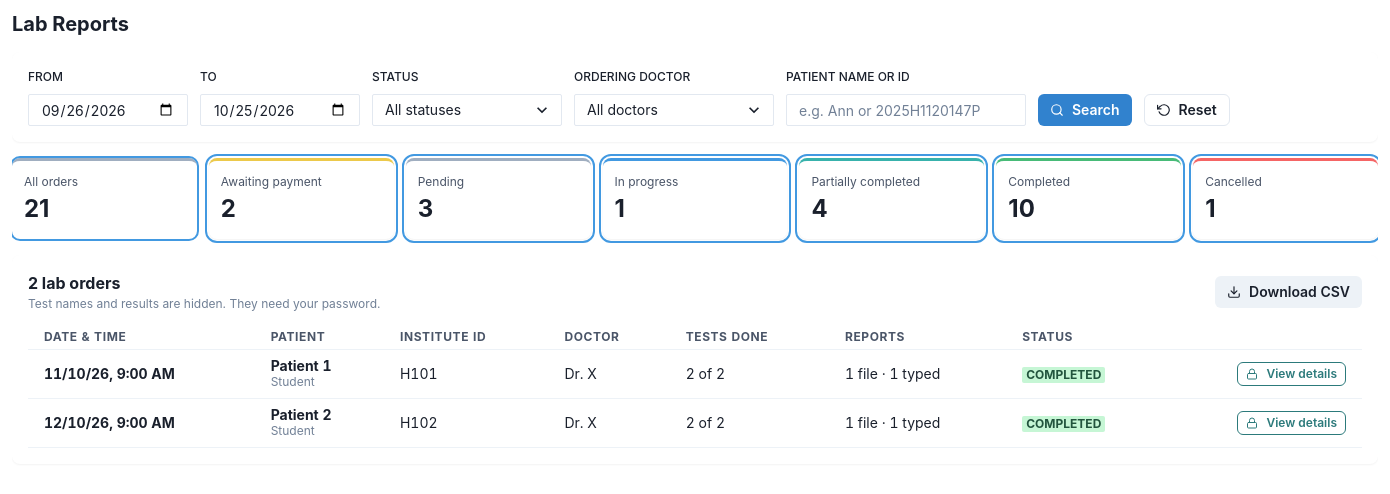
Test: Admin Reports - lab order statuses › refuses {"from":"","to":"2026-10-01"} without asking the server
Expected: the text "lab orders?" is shown, [28,273,120,293]
Clear the date field named "From date" at (108,110), box [28,94,188,126]
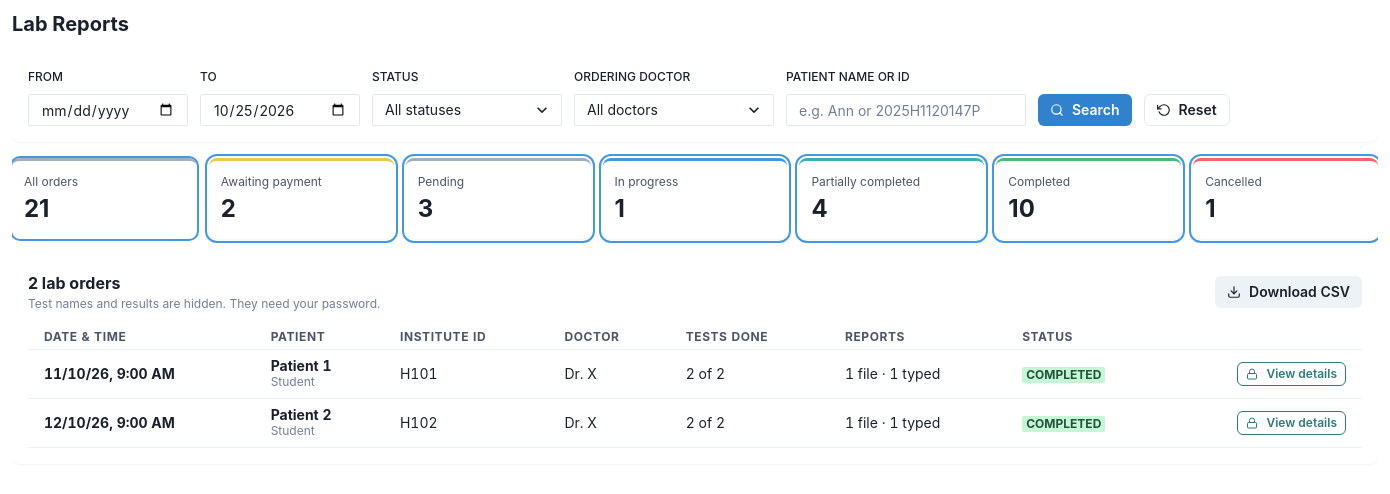
Type "2026-10-01" into the date field named "To date" at (280,110), box [200,94,360,126]
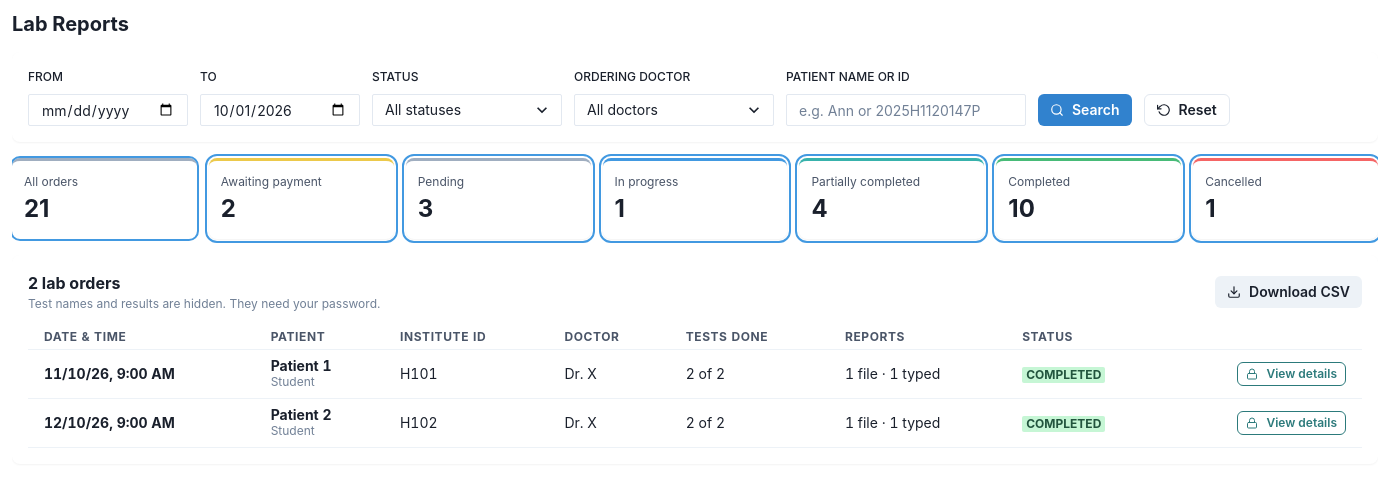
Click the button "Search" at (1085,110), box [1038,94,1132,126]
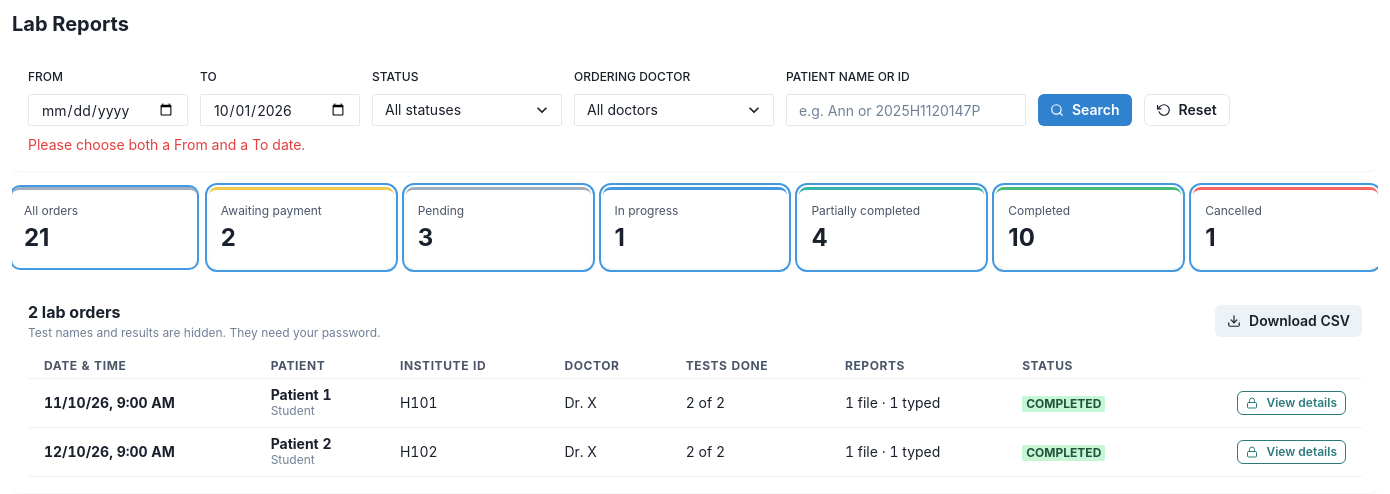
Now the text "Please choose both a From and a To date." is shown, box [28,136,305,153]
